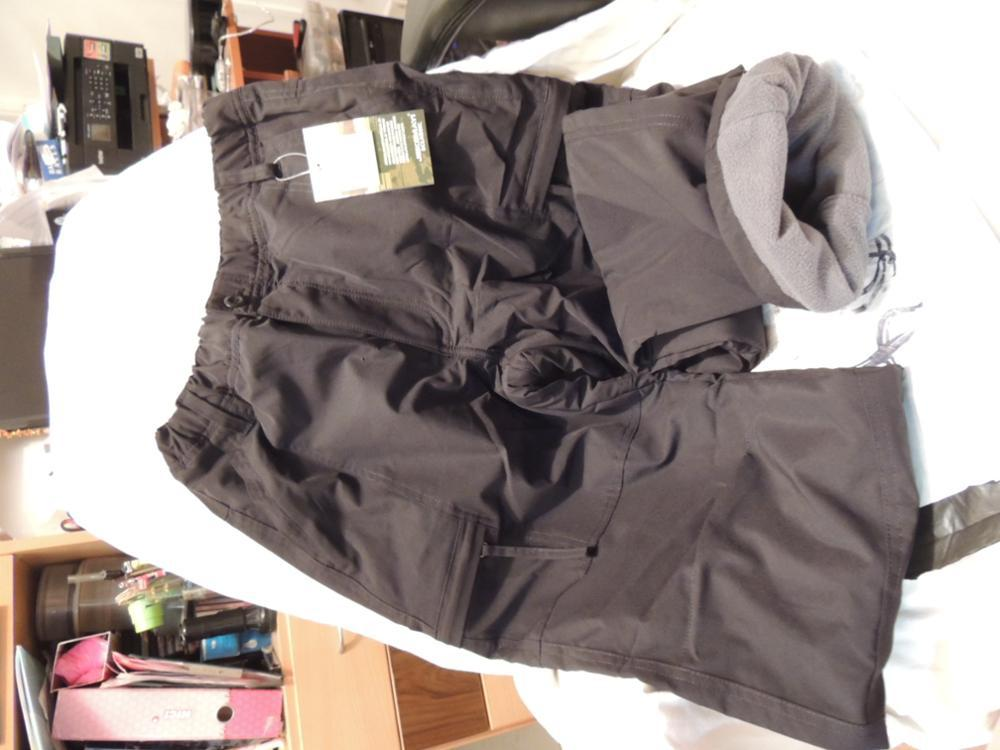pants: (169, 78, 896, 747)
